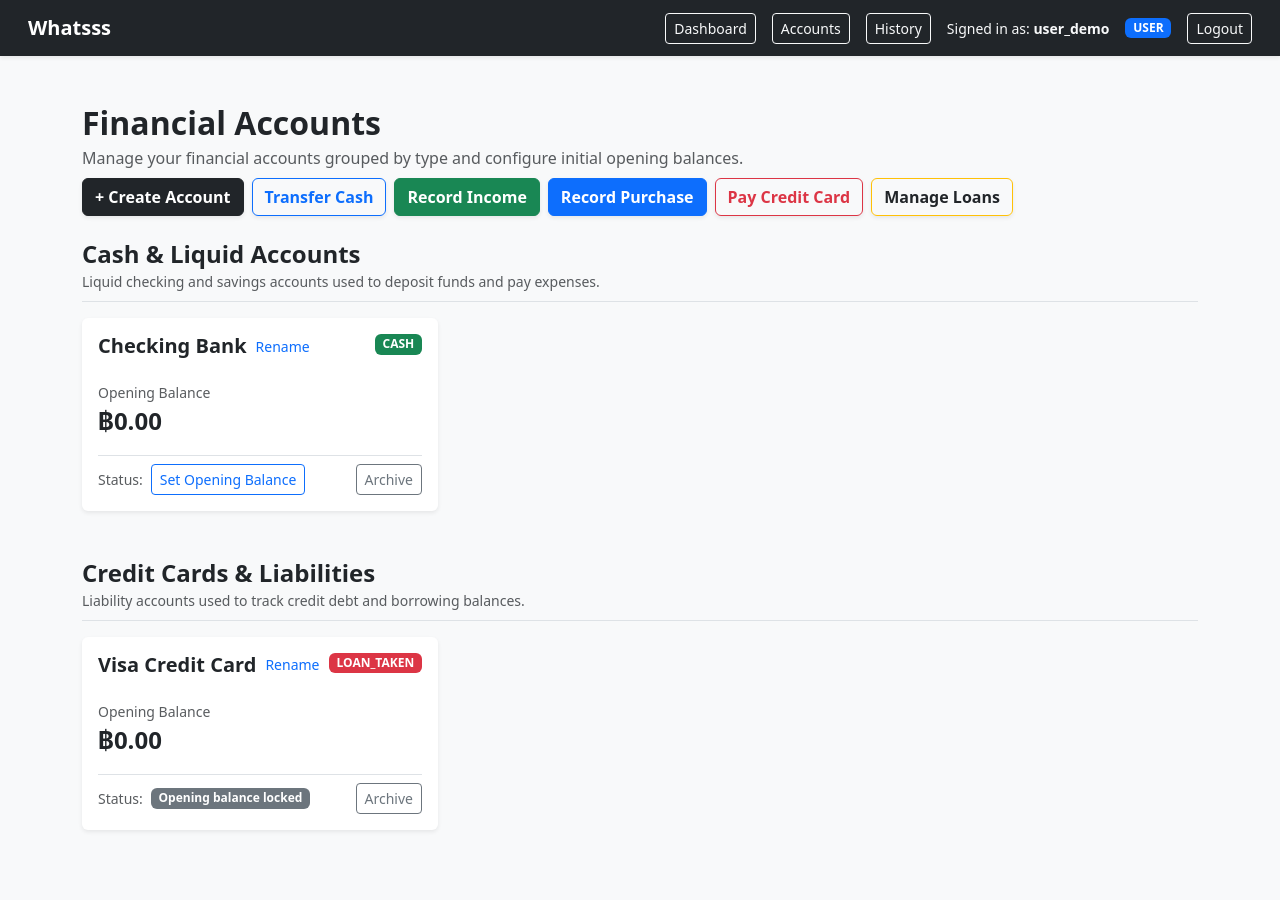
Test: Frontend Financial Accounts & Opening Balance Suite (WP-02) › TEST-ACC-01 & TEST-ACC-04 (UI): opens Create Account modal, creates a new custom account, and renames an existing account (F-10, WP-08)
The width and height of the screenshot is (1280, 900).
Expected: the heading "Checking Bank" is shown, left=98, top=334, right=246, bottom=358
// Open Create Account Modal
Click the button "+ Create Account" at (163, 197), box left=82, top=178, right=244, bottom=216
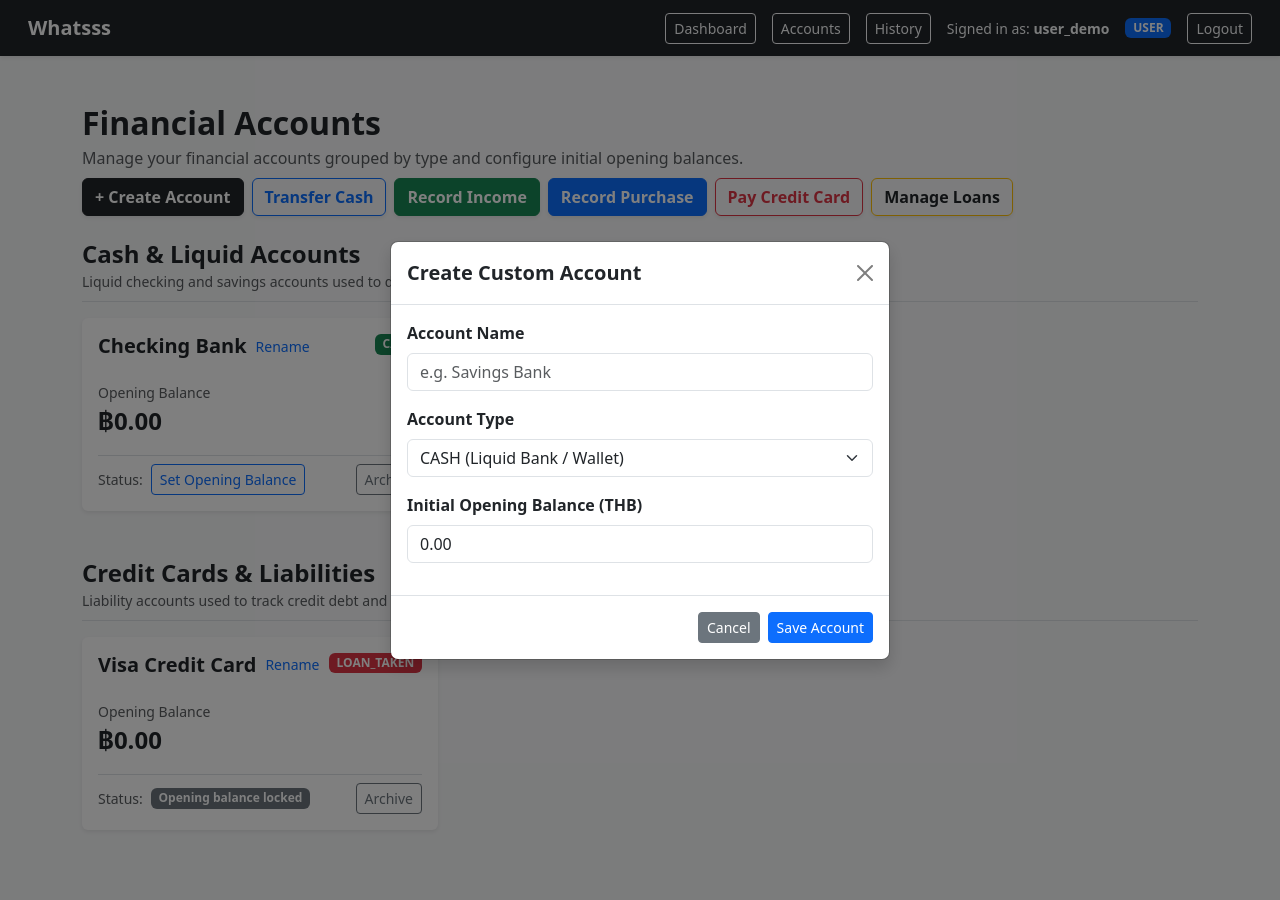
Expected: the heading "Create Custom Account" is shown, left=407, top=258, right=642, bottom=288
Type "  Savings   Bank  " into the field labelled "Account Name" at (640, 372), box left=407, top=352, right=873, bottom=390
Type "5000.00" into the number field labelled "Initial Opening Balance (THB)" at (640, 544), box left=407, top=524, right=873, bottom=562
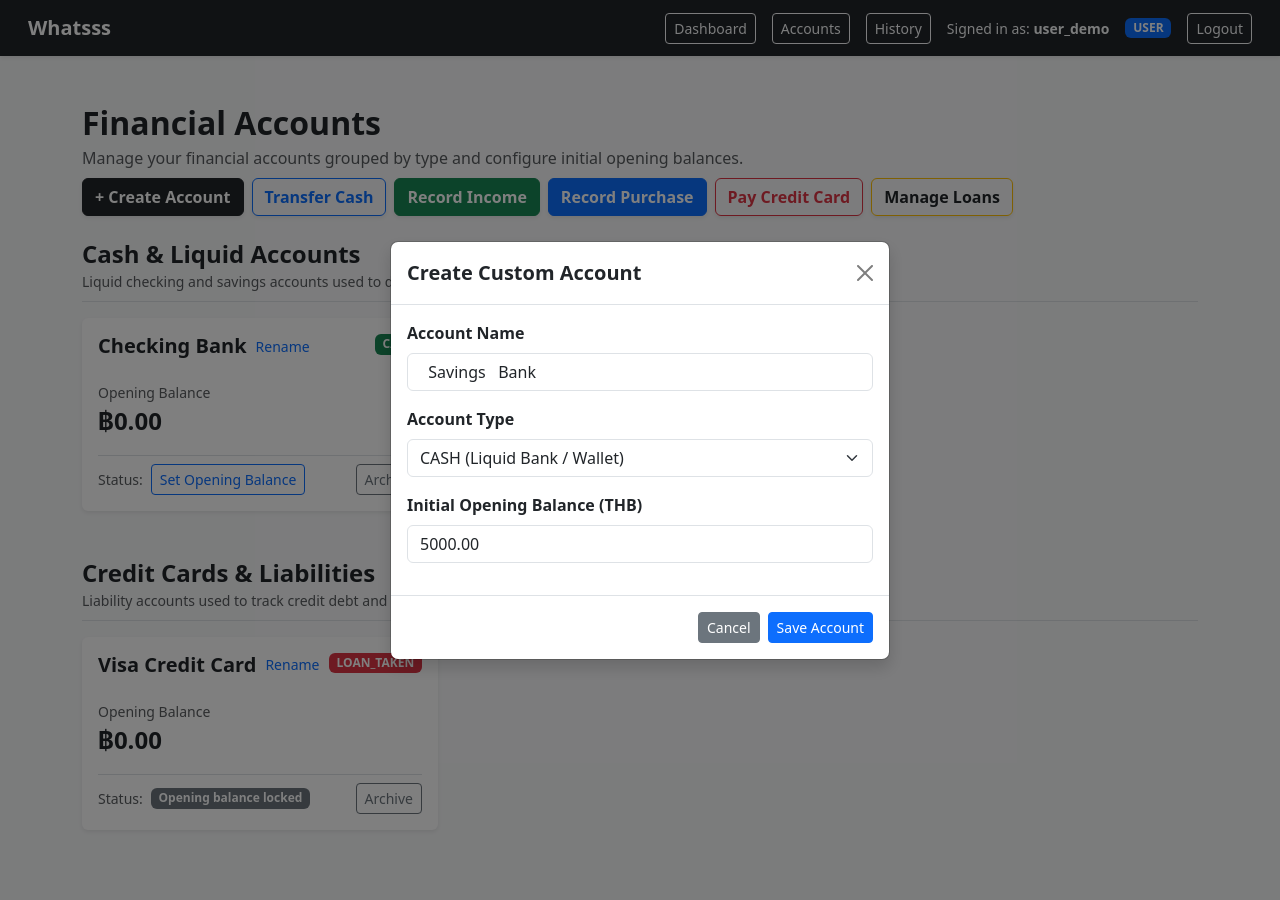
Submit the form labelled "Account Name", box left=391, top=304, right=889, bottom=658
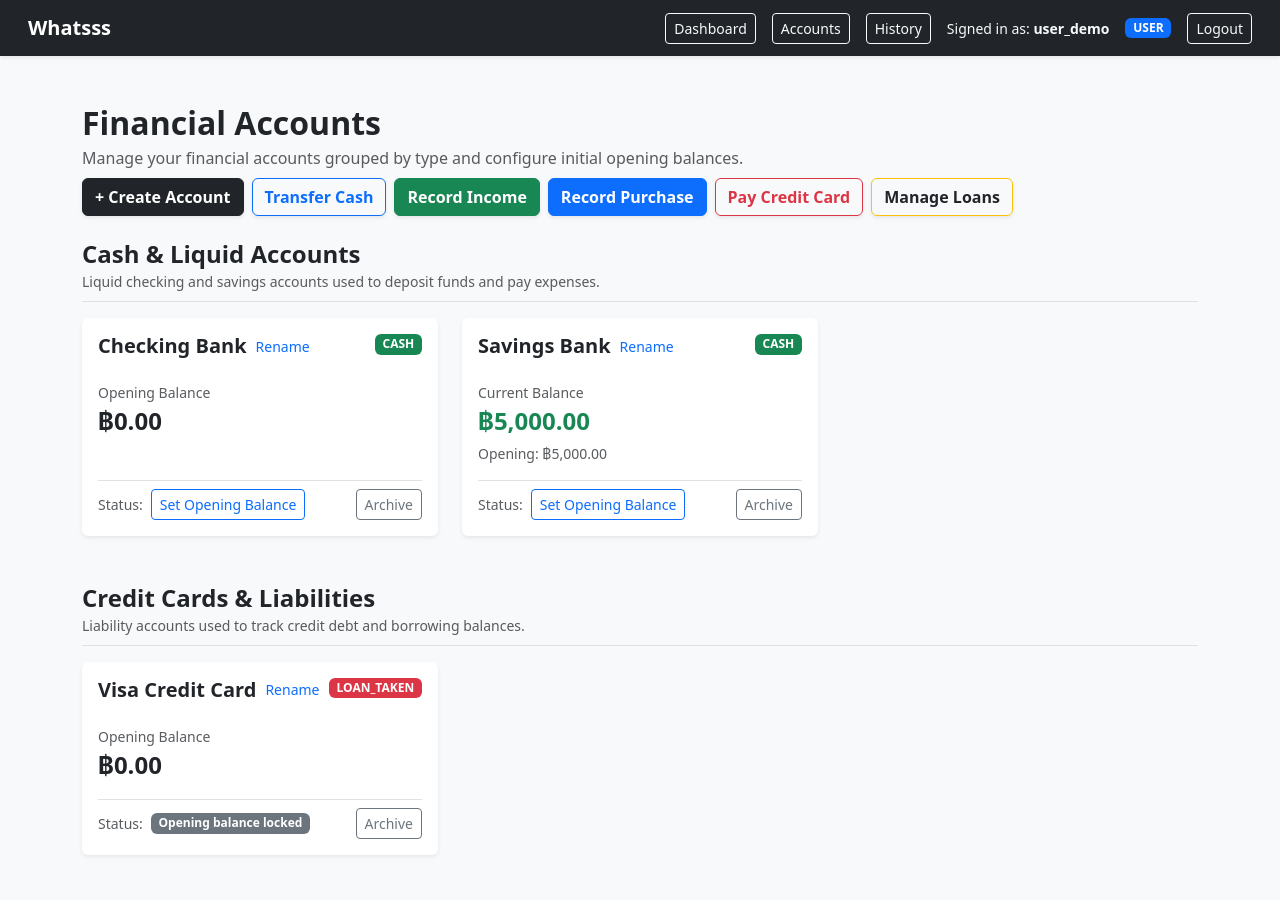
Expected: the heading "Savings Bank" is shown, left=478, top=334, right=611, bottom=358
// Open Rename Modal for Checking Bank
Click the button with aria-label "Rename Checking Bank" at (283, 346), box left=254, top=335, right=311, bottom=358
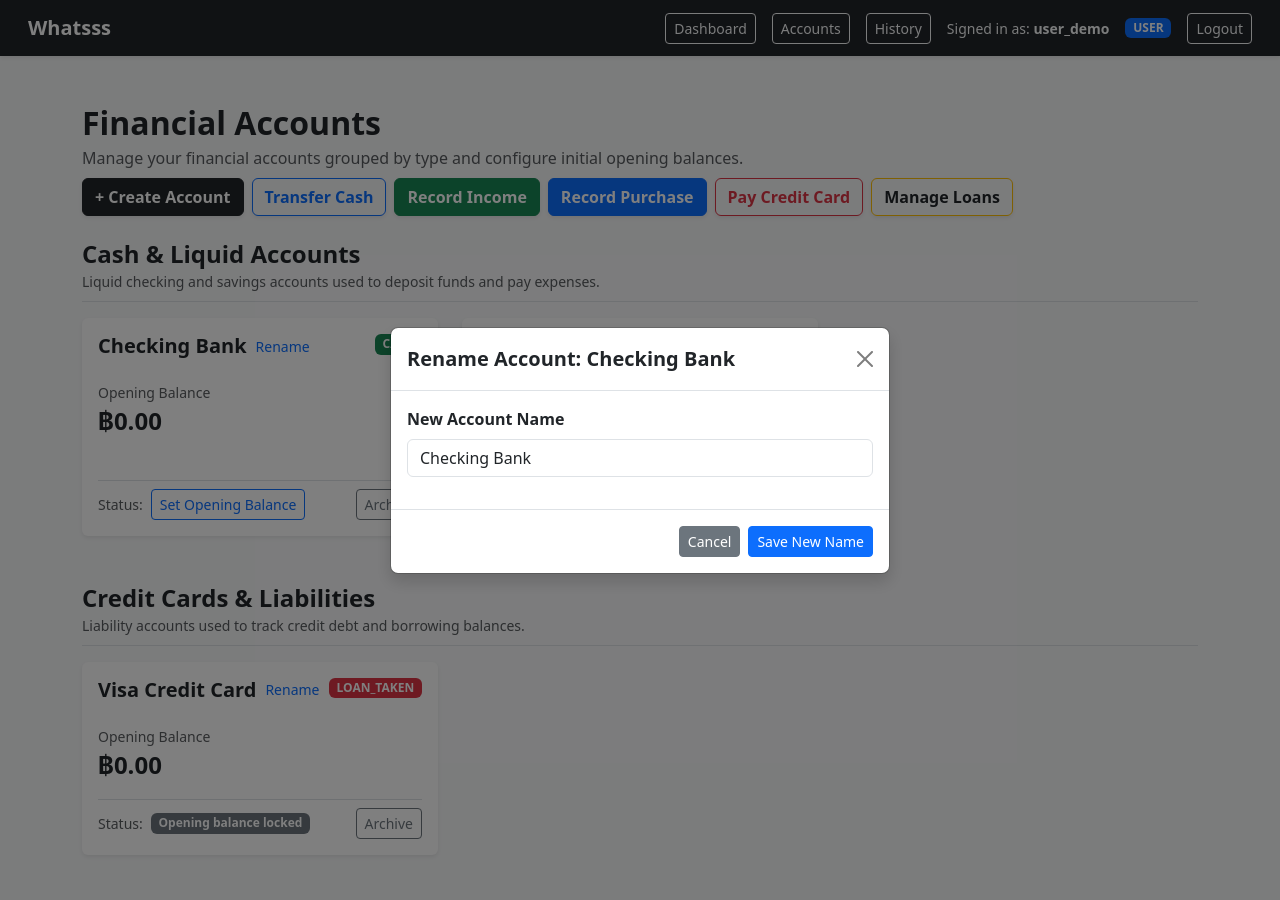
Expected: the heading "Rename Account: Checking Bank" is shown, left=407, top=344, right=735, bottom=374
Replace the text in the field labelled "New Account Name" with "Main Checking" at (640, 458), box left=407, top=438, right=873, bottom=476
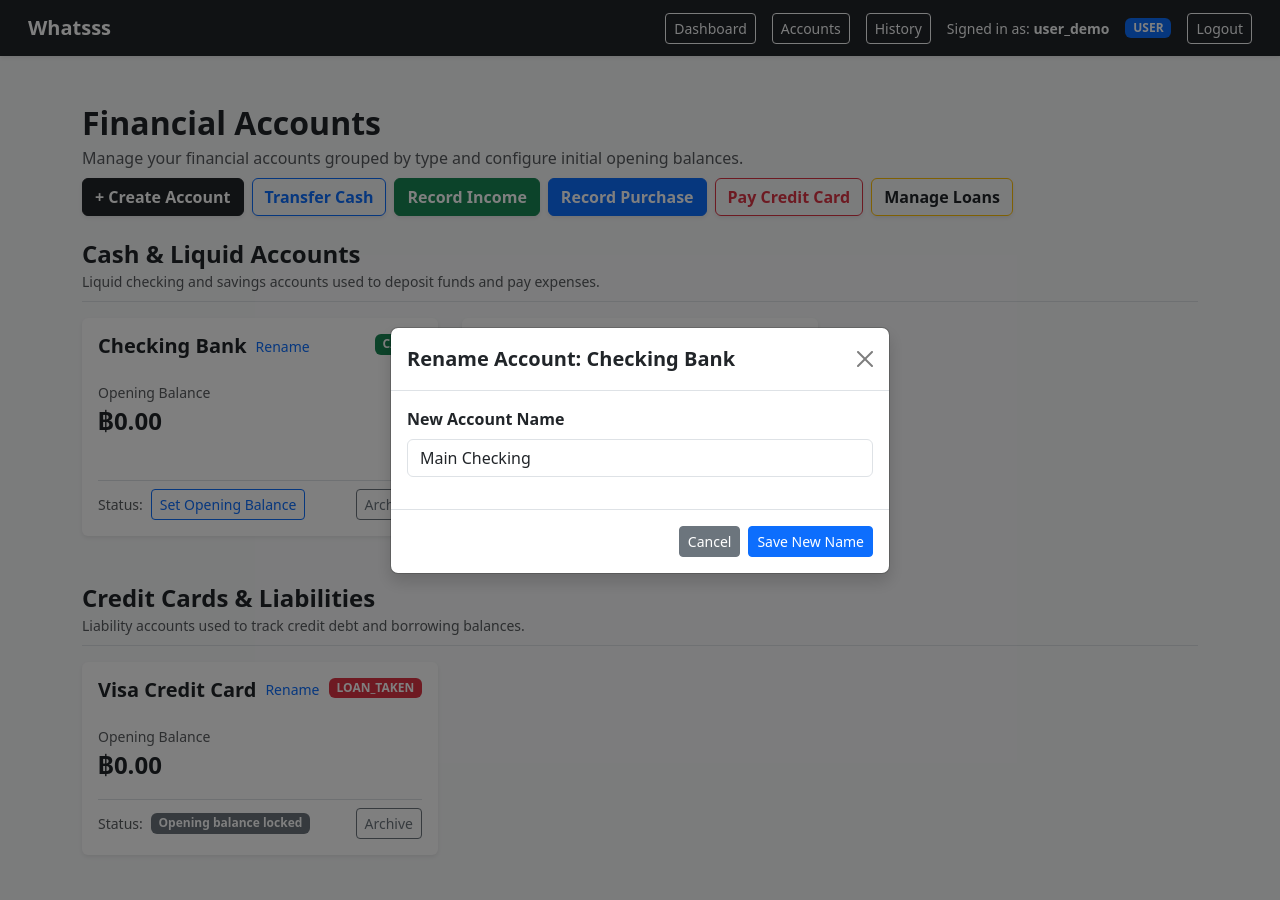
Submit the form labelled "New Account Name", box left=391, top=390, right=889, bottom=572
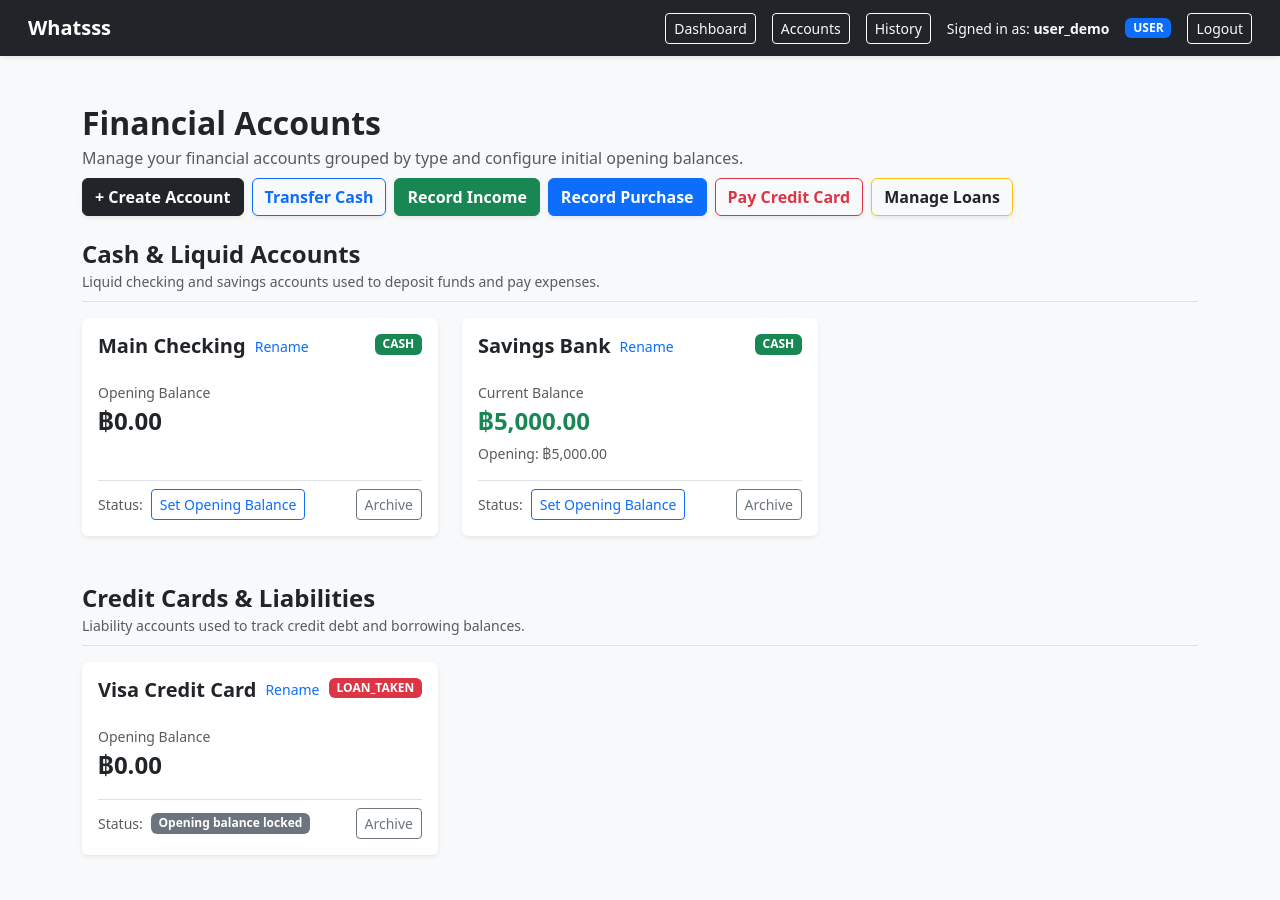
Expected: the heading "Main Checking" is shown, left=98, top=334, right=246, bottom=358
